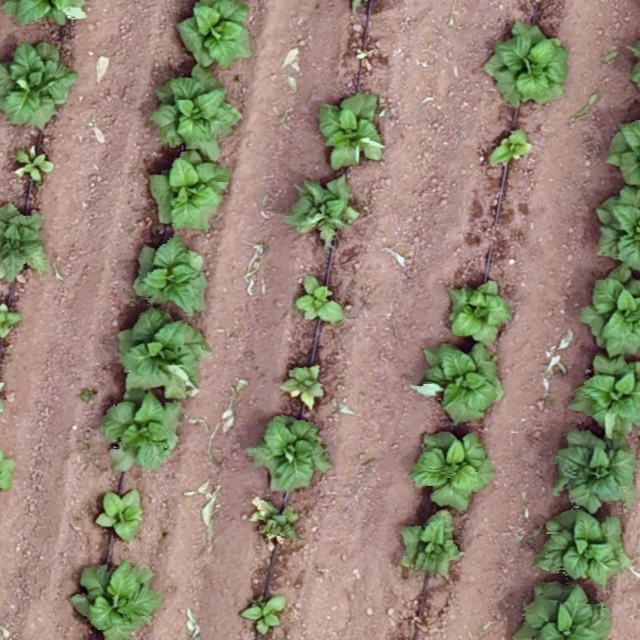disease_tobacco: (247, 493, 302, 546)
grow_tobacco: (115, 304, 207, 398), (147, 67, 240, 156), (484, 18, 571, 111), (535, 503, 629, 588), (416, 337, 504, 425), (97, 387, 184, 475), (410, 421, 493, 513), (69, 558, 161, 640), (551, 424, 637, 511), (1, 36, 77, 130), (146, 150, 230, 234), (249, 409, 331, 491), (131, 234, 208, 316), (514, 576, 612, 640), (314, 87, 386, 173), (568, 350, 640, 434), (175, 1, 254, 71), (285, 171, 357, 246), (580, 269, 639, 357), (446, 275, 511, 345), (399, 509, 461, 581), (592, 184, 639, 276), (1, 201, 47, 281), (92, 484, 146, 543), (603, 109, 640, 194), (293, 274, 345, 329), (280, 359, 328, 410), (486, 120, 532, 171), (2, 1, 88, 28), (238, 590, 288, 636), (11, 142, 53, 185), (627, 10, 640, 115), (1, 286, 20, 346)
